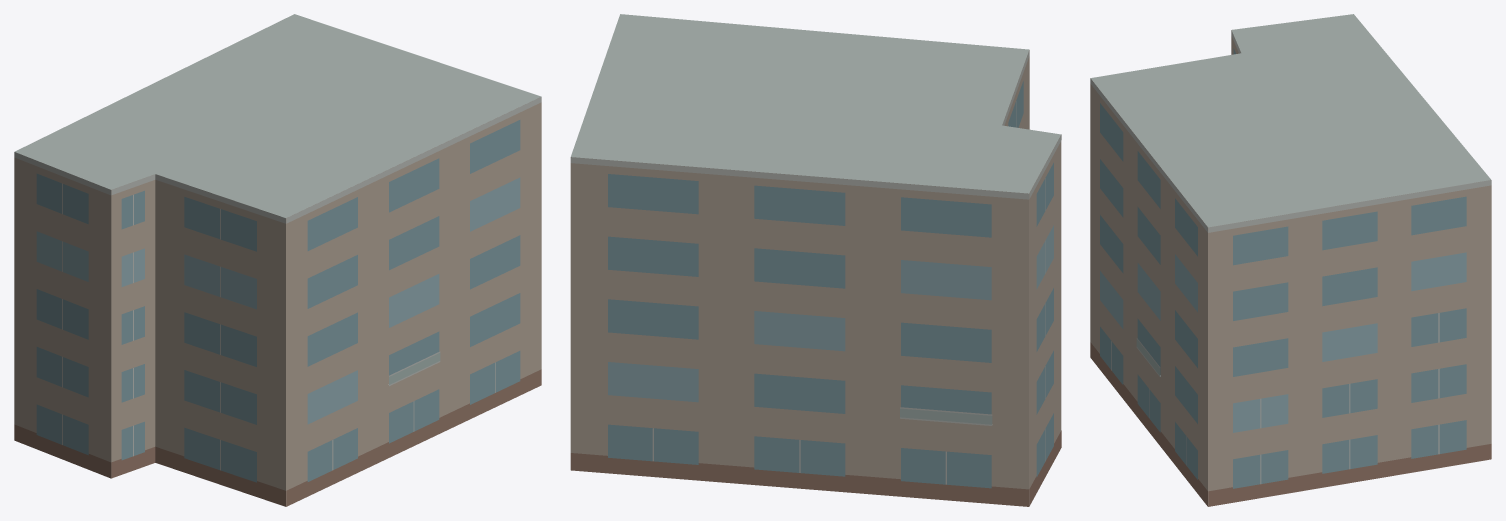
Rendered from survey-upis-33040502.glb.
3 renders of one model, left to right at view 1: azimuth 30°, elevation 25°; view 2: azimuth 150°, elevation 25°; view 3: azimuth 270°, elevation 25°, orthographic. The views are drawn at different scales.
Parts seen in each view (by area): view 1: survey-upis-33040502.tmp; view 2: survey-upis-33040502.tmp; view 3: survey-upis-33040502.tmp.
Boxes of the visible parts, <box> form: survey-upis-33040502.tmp: <box>14,14,541,506</box>; survey-upis-33040502.tmp: <box>570,14,1061,506</box>; survey-upis-33040502.tmp: <box>1090,14,1491,506</box>.
Bounding box in the file's own units: 20.58 × 12.55 × 16.34.
